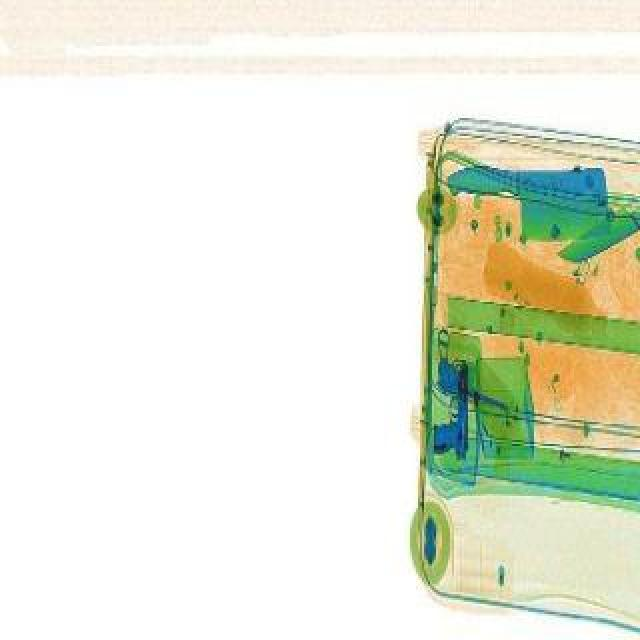gun: (422, 328, 526, 412), (434, 366, 470, 466)
knife: (440, 166, 612, 248), (552, 208, 640, 276)
